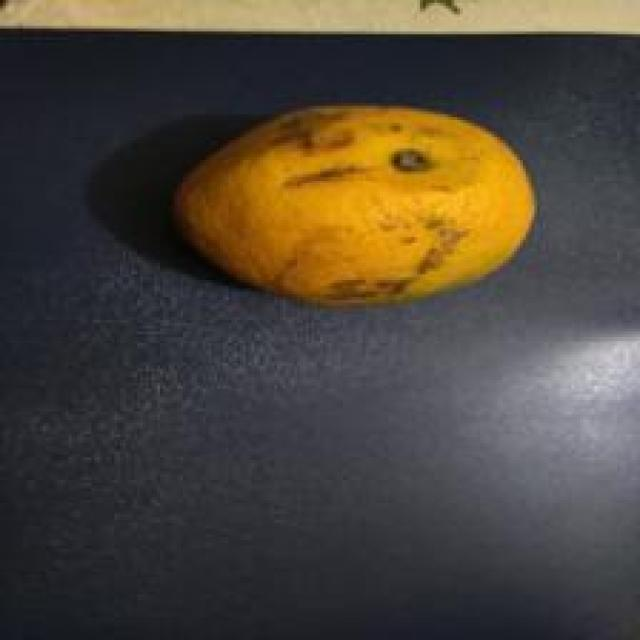overripe: (162, 96, 544, 309)
